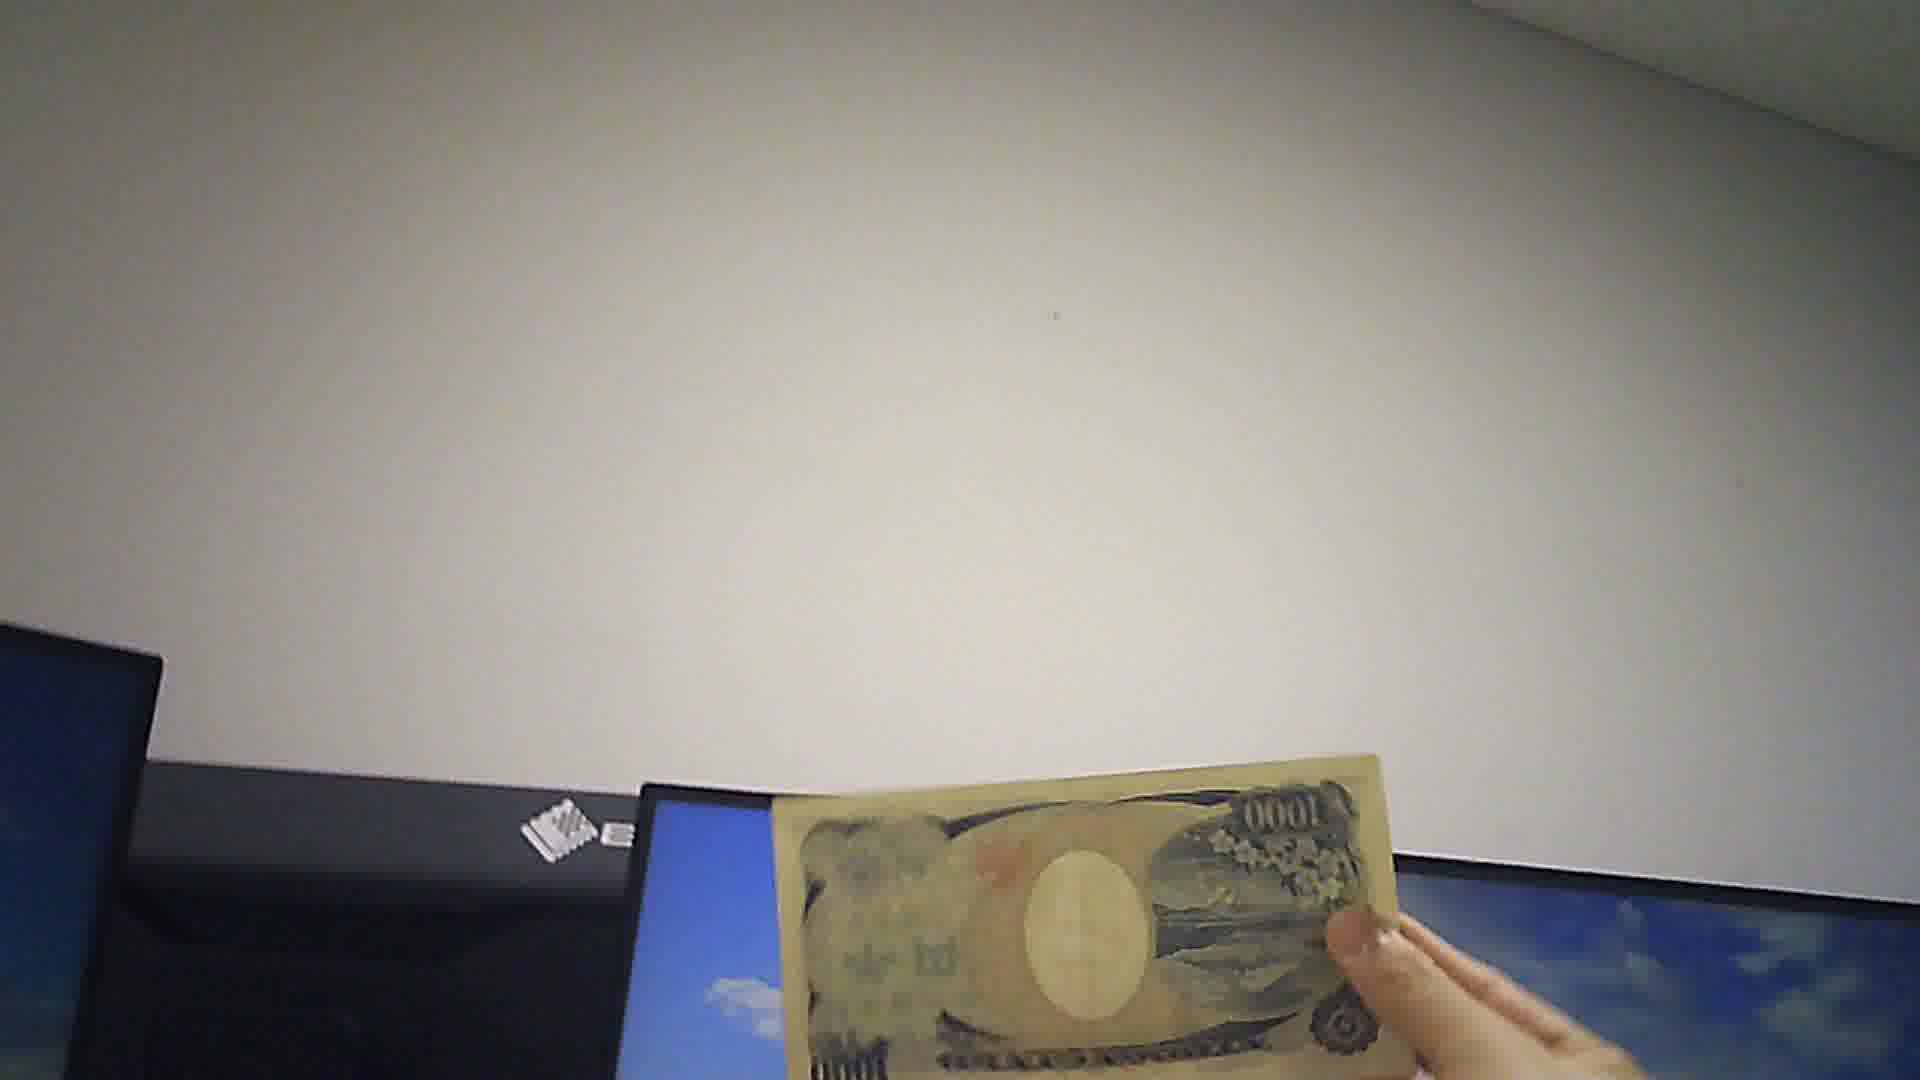1,000 Yen: (767, 756, 1423, 1069)
